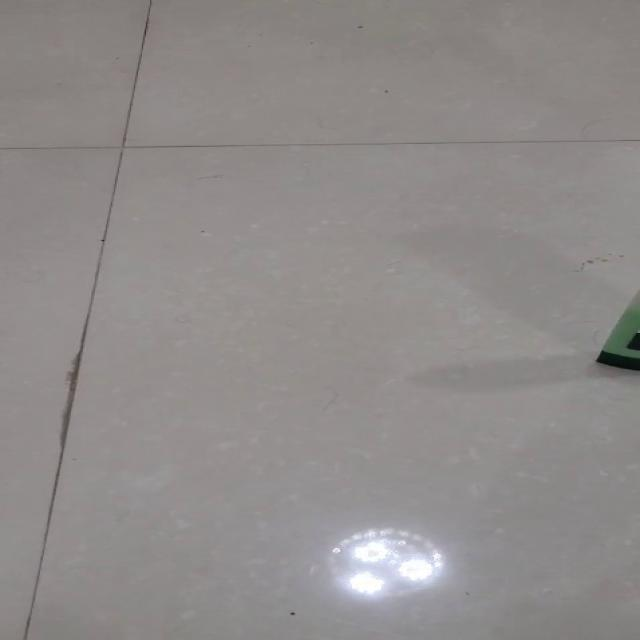plastic: (594, 287, 638, 370)
